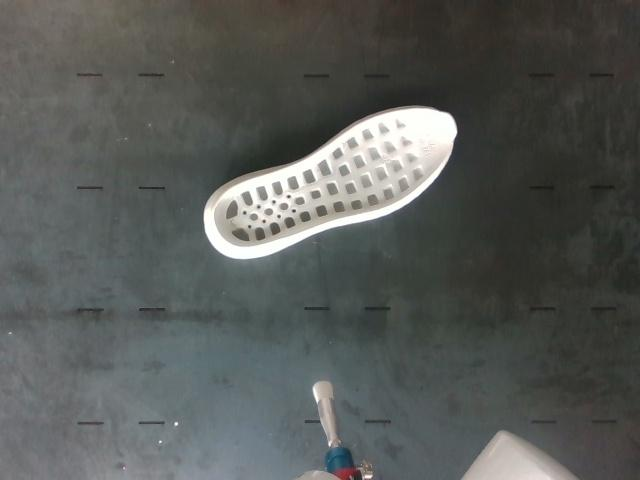shoes: (213, 110, 455, 247)
